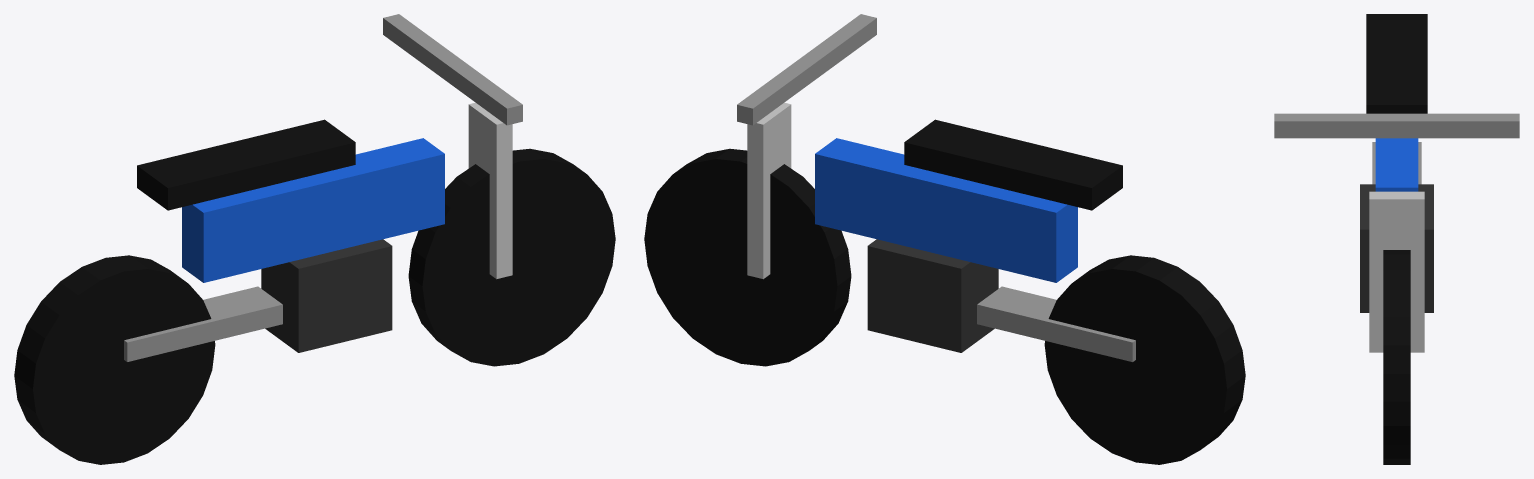
Rendered from test-bike.obj.
The picture shows the model from 3 angles, left to right: view 1: azimuth 30°, elevation 25°; view 2: azimuth 150°, elevation 25°; view 3: azimuth 270°, elevation 25°; orthographic projection.
Parts seen in each view (by area): view 1: Wheel_Front, Wheel_Rear, Frame, Engine, Seat, Fork_Lower, Swingarm, Handlebar; view 2: Wheel_Front, Wheel_Rear, Frame, Engine, Seat, Fork_Lower, Swingarm, Handlebar; view 3: Handlebar, Fork_Lower, Seat, Wheel_Front, Engine, Frame, Swingarm.
Boxes of the visible parts, bbox=[...] form: Wheel_Front: bbox=[408, 148, 615, 366]; Wheel_Rear: bbox=[14, 255, 215, 464]; Frame: bbox=[182, 138, 444, 282]; Engine: bbox=[261, 239, 392, 352]; Seat: bbox=[137, 119, 355, 210]; Fork_Lower: bbox=[468, 102, 512, 279]; Swingarm: bbox=[124, 286, 282, 361]; Handlebar: bbox=[383, 14, 522, 125]; Wheel_Front: bbox=[644, 148, 851, 366]; Wheel_Rear: bbox=[1044, 255, 1245, 464]; Frame: bbox=[815, 138, 1077, 282]; Engine: bbox=[867, 239, 998, 352]; Seat: bbox=[904, 119, 1122, 210]; Fork_Lower: bbox=[747, 102, 791, 279]; Swingarm: bbox=[977, 286, 1135, 361]; Handlebar: bbox=[737, 14, 876, 125]; Handlebar: bbox=[1274, 113, 1519, 138]; Fork_Lower: bbox=[1369, 191, 1424, 352]; Seat: bbox=[1366, 14, 1427, 113]; Wheel_Front: bbox=[1383, 250, 1410, 464]; Engine: bbox=[1360, 184, 1433, 312]; Frame: bbox=[1375, 138, 1418, 191]; Swingarm: bbox=[1372, 142, 1421, 184].
Bounding box in the file's own units: 218 × 111 × 80.
